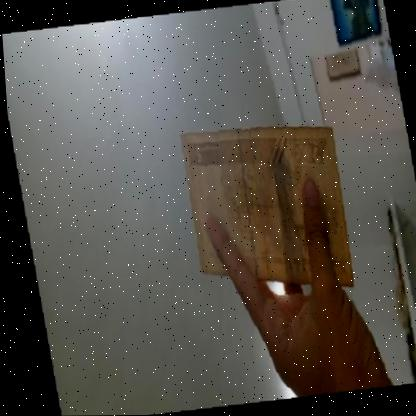five-back-vef: (180, 122, 350, 294)
